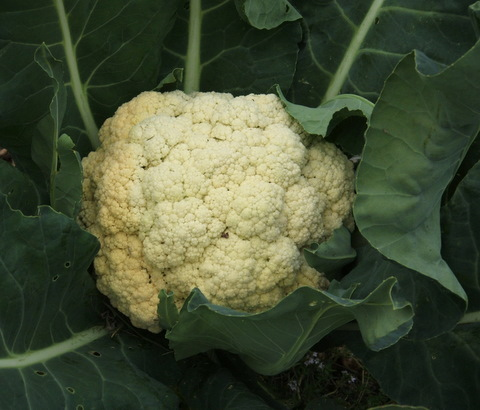cauliflower: (76, 89, 357, 329)
